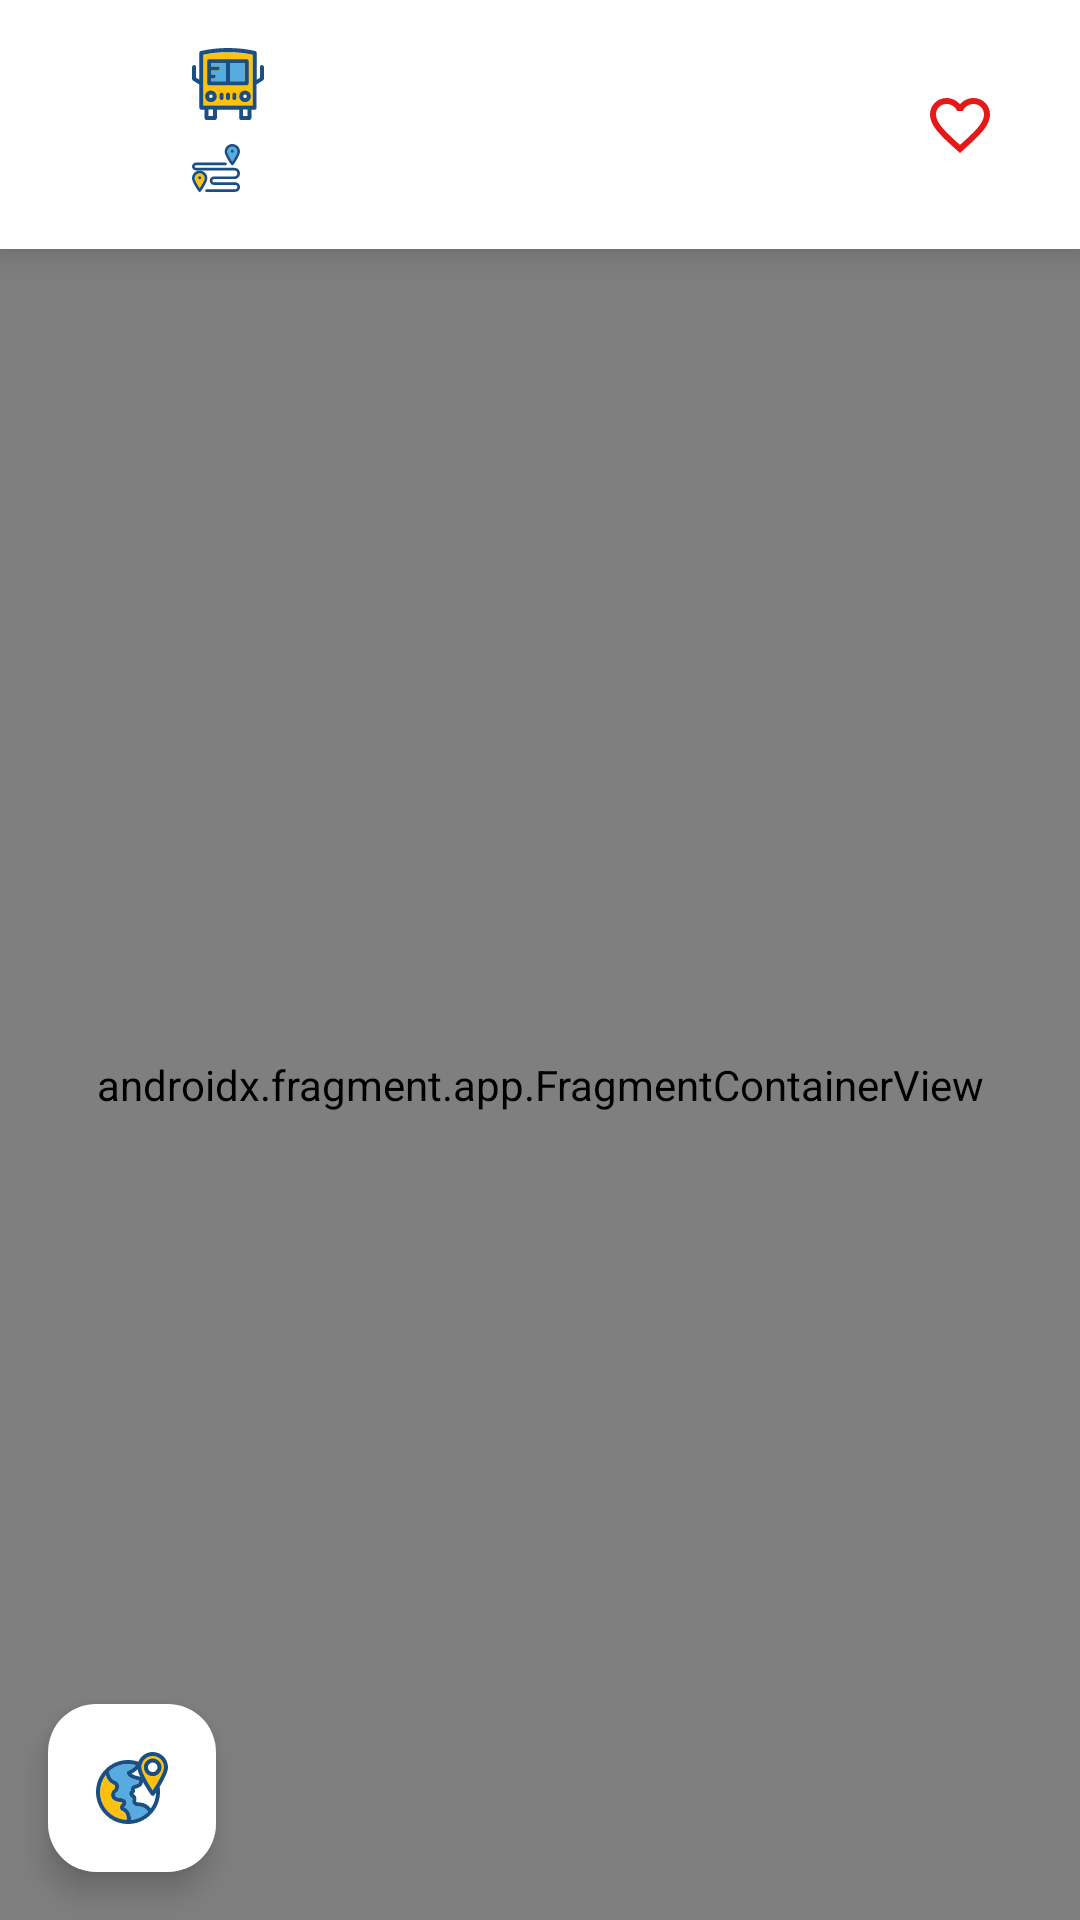

Named icons in this screenshot (1080×1920) and their bounding boxes, (x1, y1, x2, y2):
bus icon: (192, 48, 264, 120)
fav icon: (930, 98, 990, 153)
Ícone Rota: (192, 144, 240, 192)
